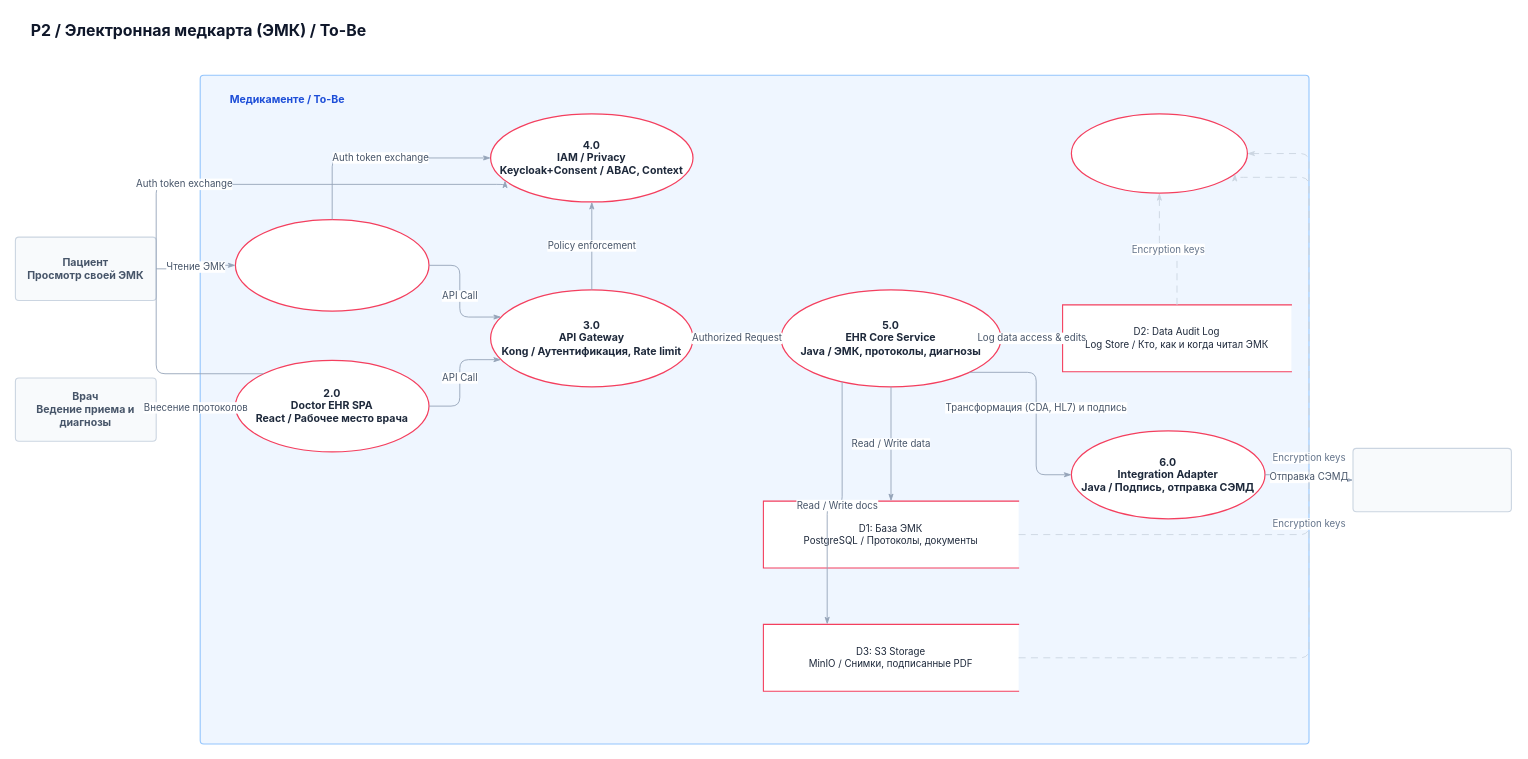
Image size: 1528x759. Some labels were removed from this diagram. Here are the shapes that lost their labels. From the top down, the centre of each, then its label:
point 1159,153: 7.0 KMS Service Vault / Data encryption keys
point 331,265: 1.0 Web/Mobile App SPA/Kotlin / Доступ к ЭМК
point 1432,479: ЕГИСЗ (РЭМД) Государственный контур
